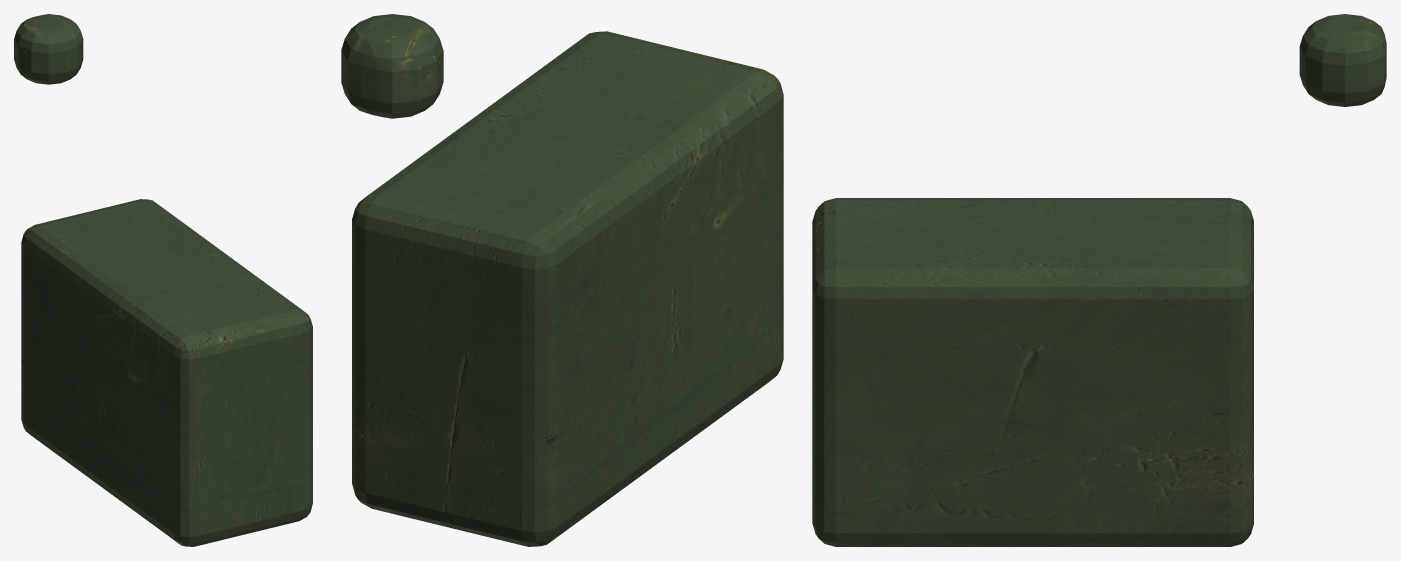
Rendered from jerry_can.glb.
3 renders of one model, left to right at view 1: azimuth 30°, elevation 25°; view 2: azimuth 150°, elevation 25°; view 3: azimuth 270°, elevation 25°, orthographic. The views are drawn at different scales.
Visible parts, largest first — view 1: jerry_can; view 2: jerry_can; view 3: jerry_can.
Part boxes in pixels (x1,y1,x2,y2): jerry_can: [14, 14, 312, 546]; jerry_can: [341, 14, 783, 546]; jerry_can: [812, 14, 1386, 546].
Size of the model in its own units: 0.16 by 0.4125 by 0.4419.
1 material, 1 textured.
